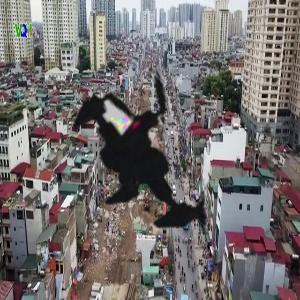drone: (23, 23, 287, 287)
